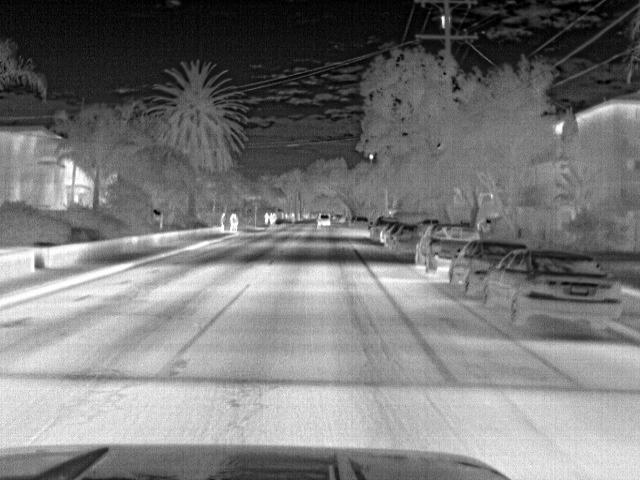car: (476, 248, 620, 336), (449, 241, 528, 292), (413, 221, 479, 272), (393, 224, 421, 254), (370, 215, 399, 243), (385, 223, 407, 250), (380, 220, 397, 243), (351, 216, 370, 230), (317, 213, 332, 228), (330, 213, 347, 225)
person: (219, 210, 227, 231), (232, 211, 240, 231), (262, 210, 270, 227), (227, 212, 234, 231)
